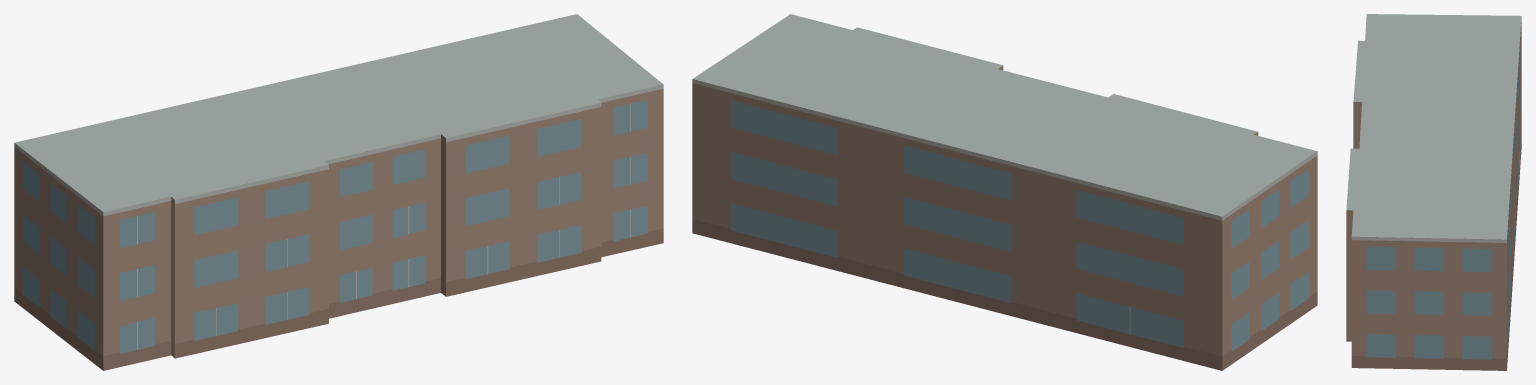
File: survey-upis-32623159.glb
3 views of the same model, side by side, from view 1: azimuth 30°, elevation 25°; view 2: azimuth 150°, elevation 25°; view 3: azimuth 270°, elevation 25° (orthographic). The views are drawn at different scales.
Visible parts, largest first — view 1: survey-upis-32623159.tmp; view 2: survey-upis-32623159.tmp; view 3: survey-upis-32623159.tmp.
Part boxes in pixels (left/top/right/bottom): survey-upis-32623159.tmp: left=14, top=14, right=663, bottom=370; survey-upis-32623159.tmp: left=692, top=14, right=1317, bottom=370; survey-upis-32623159.tmp: left=1346, top=14, right=1521, bottom=370.
Bounding box in the file's own units: 33.71 × 9.15 × 11.07.
